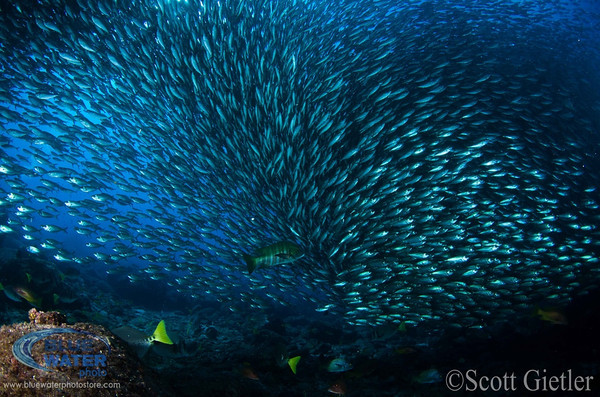fish: (238, 244, 301, 267)
